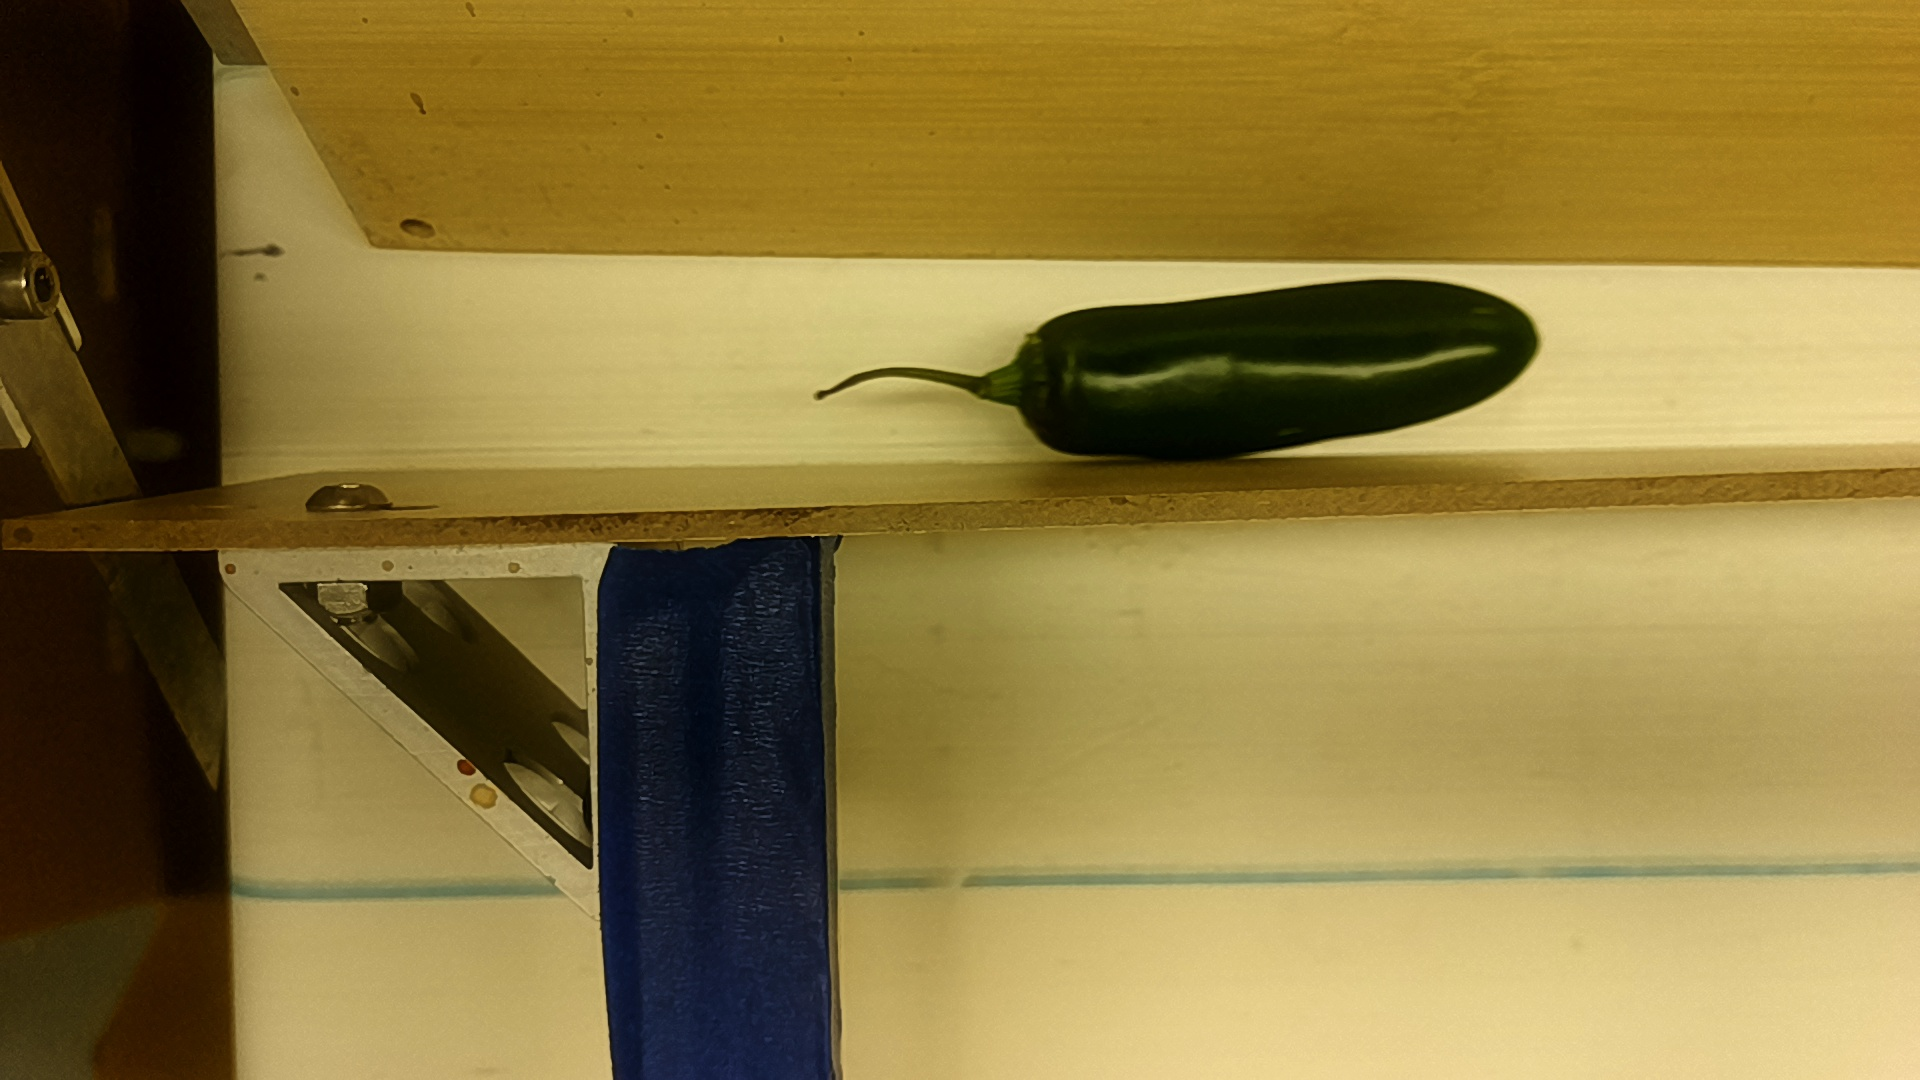Cut Point: (1004, 313, 1084, 460)
